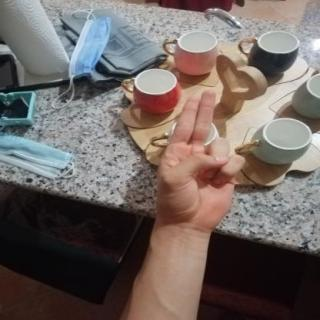TA: (146, 84, 252, 236)
